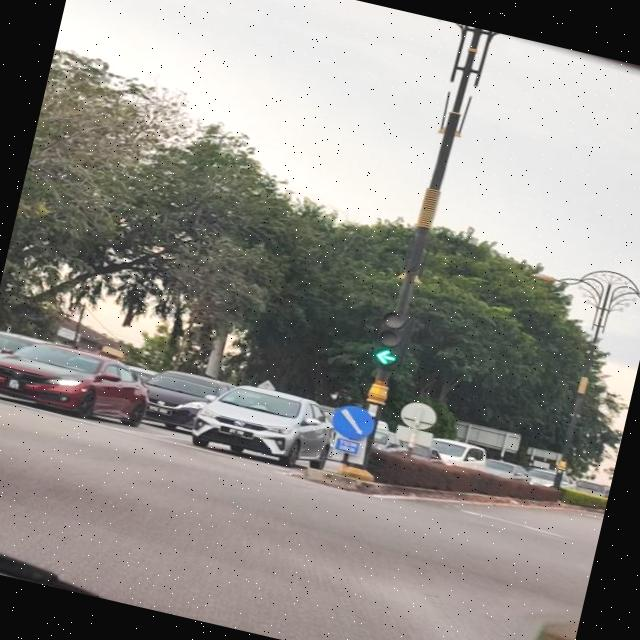green_light: (369, 308, 408, 368)
